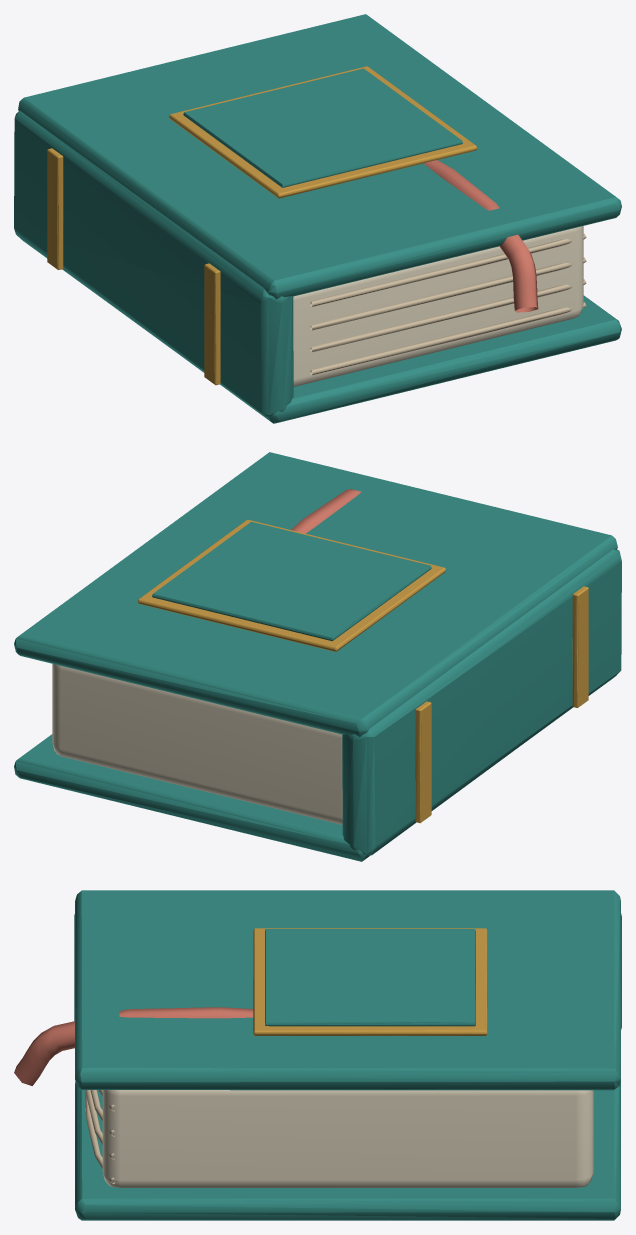
The model's file is book.glb.
3 views of the same model, one above another, from view 1: azimuth 30°, elevation 25°; view 2: azimuth 150°, elevation 25°; view 3: azimuth 270°, elevation 25° (orthographic). The views are drawn at different scales.
Visible parts, largest first — view 1: Crafted_teal, Crafted_paper, Crafted_brass, Crafted_seam, Crafted_coral; view 2: Crafted_teal, Crafted_paper, Crafted_brass, Crafted_coral; view 3: Crafted_teal, Crafted_paper, Crafted_brass, Crafted_coral, Crafted_seam.
Boxes of the visible parts, x1,y1,x2,y2 form: Crafted_teal: (14, 14, 621, 423); Crafted_paper: (293, 226, 583, 386); Crafted_brass: (47, 66, 476, 385); Crafted_seam: (310, 233, 586, 375); Crafted_coral: (423, 160, 538, 312); Crafted_teal: (14, 452, 621, 861); Crafted_paper: (52, 664, 342, 824); Crafted_brass: (138, 519, 588, 823); Crafted_coral: (291, 489, 361, 533); Crafted_teal: (74, 890, 621, 1220); Crafted_paper: (102, 1090, 593, 1187); Crafted_brass: (253, 928, 487, 1035); Crafted_coral: (14, 1007, 253, 1085); Crafted_seam: (85, 1090, 116, 1184).
Size of the model in its own units: 0.4029 by 0.1614 by 0.5449.
